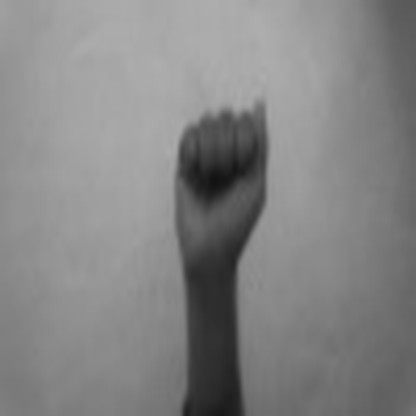a: (167, 87, 276, 270)
